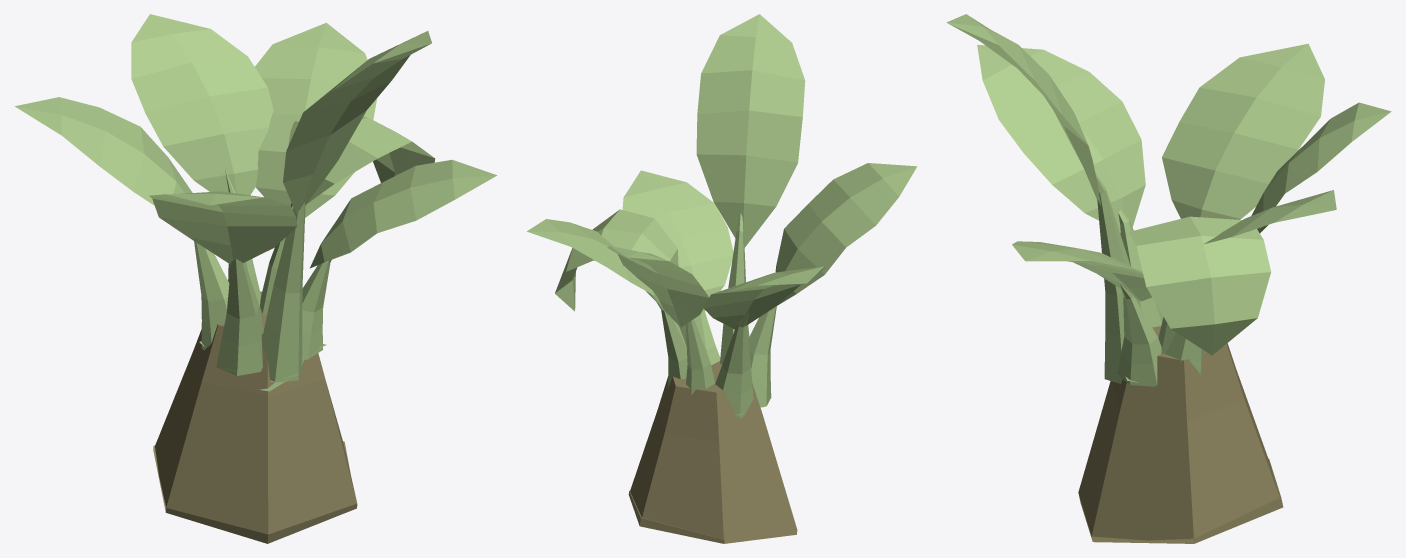
The model's file is Bananier_3_V001.fbx.
3 views of the same model, side by side, from view 1: azimuth 30°, elevation 25°; view 2: azimuth 150°, elevation 25°; view 3: azimuth 270°, elevation 25° (orthographic). The views are drawn at different scales.
Visible parts, largest first — view 1: Sweep_3, Cube_1_4, Cube_1_5, Cube_1_7, Cube_1_3, Cube_1_6, Cube_1_2, Feuille_7, Cube_1, Feuille_2, Feuille_3, Feuille_6 (+1 smaller); view 2: Sweep_3, Cube_1_7, Cube_1_2, Cube_1_6, Cube_1, Cube_1_4, Cube_1_3, Cube_1_5, Feuille_3, Feuille_2, Feuille_4, Feuille_5 (+2 smaller); view 3: Sweep_3, Cube_1_3, Cube_1_2, Cube_1, Cube_1_4, Cube_1_7, Feuille_7, Feuille_6, Cube_1_6, Cube_1_5, Feuille_2, Feuille_5.
Part boxes in pixels (x1,y1,x2,y2): Sweep_3: [153, 324, 357, 543]; Cube_1_4: [131, 14, 273, 195]; Cube_1_5: [255, 22, 376, 217]; Cube_1_7: [283, 31, 431, 214]; Cube_1_3: [15, 97, 192, 205]; Cube_1_6: [309, 159, 496, 268]; Cube_1_2: [149, 191, 297, 264]; Feuille_7: [261, 202, 305, 382]; Cube_1: [288, 116, 435, 203]; Feuille_2: [216, 258, 263, 375]; Feuille_3: [194, 241, 229, 350]; Feuille_6: [302, 259, 331, 359]; Sweep_3: [628, 376, 797, 543]; Cube_1_7: [696, 14, 805, 247]; Cube_1_2: [775, 163, 917, 305]; Cube_1_6: [622, 170, 733, 316]; Cube_1: [555, 209, 678, 311]; Cube_1_4: [607, 245, 709, 327]; Cube_1_3: [703, 266, 825, 329]; Cube_1_5: [527, 219, 667, 315]; Feuille_3: [715, 311, 753, 418]; Feuille_2: [748, 306, 776, 407]; Feuille_4: [686, 319, 714, 395]; Feuille_5: [656, 302, 687, 388]; Sweep_3: [1078, 343, 1283, 543]; Cube_1_3: [1162, 43, 1324, 219]; Cube_1_2: [977, 44, 1145, 231]; Cube_1: [1129, 216, 1271, 355]; Cube_1_4: [1251, 102, 1391, 229]; Cube_1_7: [946, 14, 1100, 205]; Feuille_7: [1095, 173, 1141, 383]; Feuille_6: [1117, 284, 1161, 386]; Cube_1_6: [1012, 241, 1151, 301]; Cube_1_5: [1204, 190, 1336, 244]; Feuille_2: [1118, 210, 1163, 327]; Feuille_5: [1165, 332, 1204, 374].
Bounding box in the file's own units: 192 × 276 × 211.
